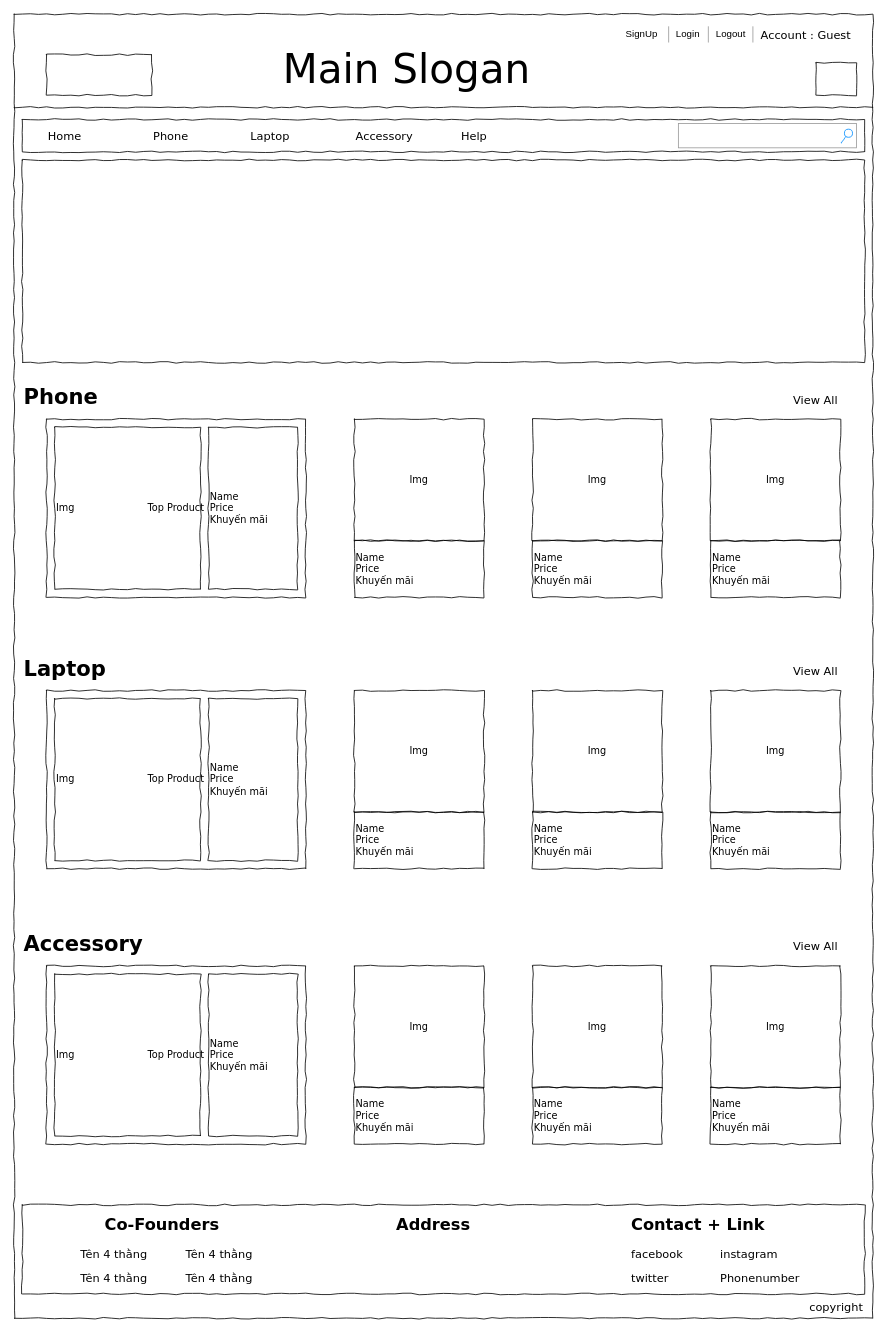
Image size: 887x1332. Some labels were removed from this diagram. Here are the shapes that lost their labels. From the top down, the box of each, then its label:
(46, 54, 152, 95): LOGO
(815, 62, 857, 95): Cart
(678, 123, 857, 148): Search
(21, 159, 865, 362): Slide Bar (~4 Products)
